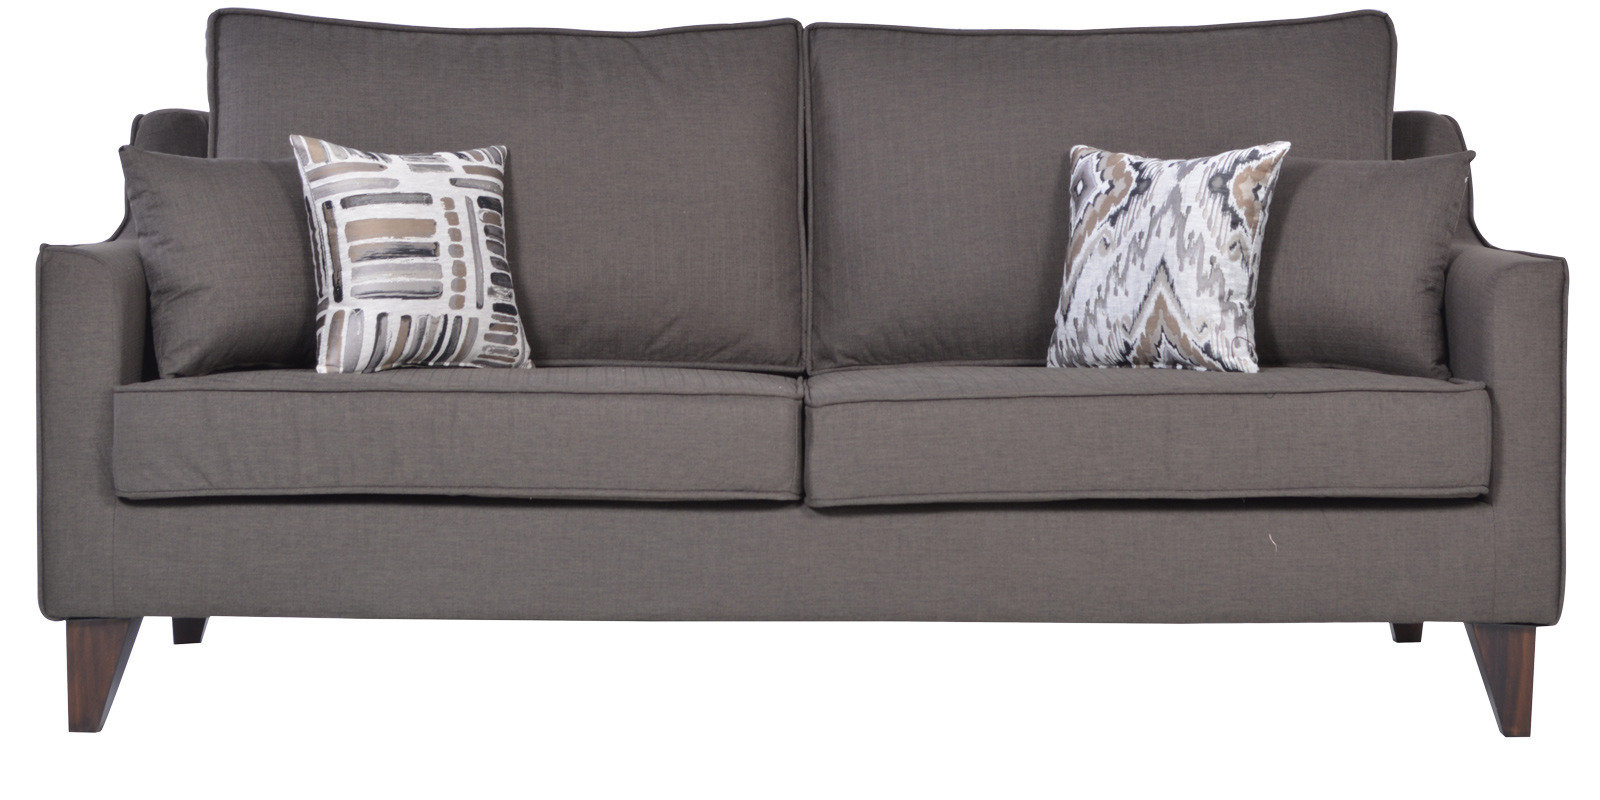Ithaca Impulse Three Seater Sofa with Throw Cushions in Charcoal Grey Colour by: (31, 1, 1597, 774)
